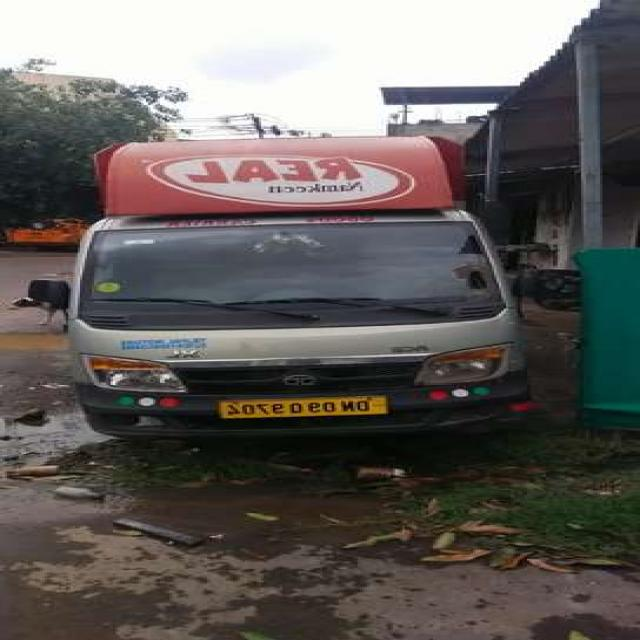license_plate: (216, 393, 390, 420)
